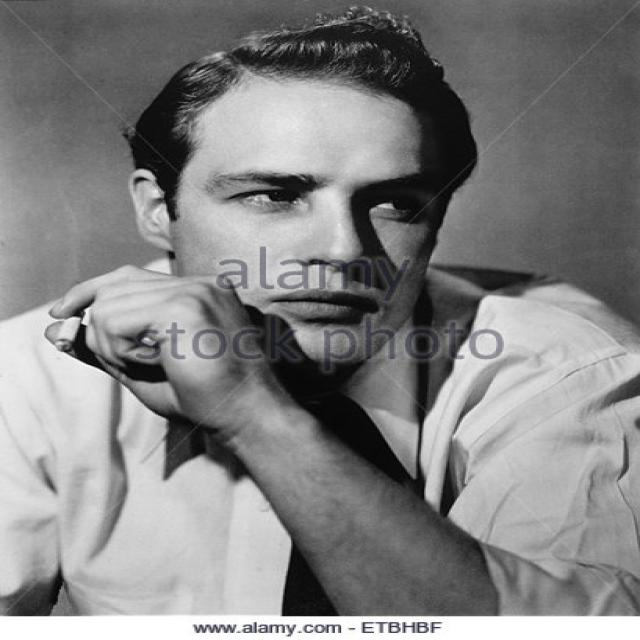smoke: (53, 316, 86, 349)
